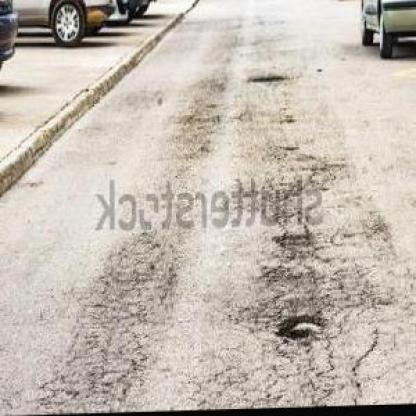pothole: (276, 314, 327, 346), (246, 71, 288, 87)
